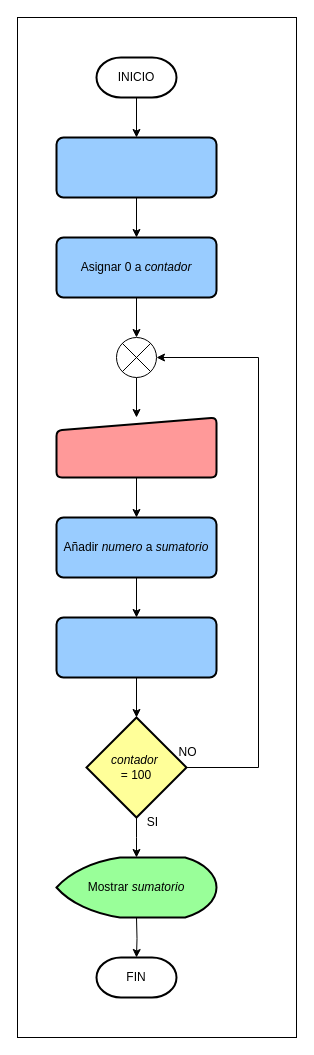
Image size: 314x1055. Some labels were removed from this diagram. Here are the shapes that lost their labels. From the top down, the centre of each, then its label:
(x=136, y=167): Asignar 0 a sumatorio
(x=136, y=447): Asignar valor a numero
(x=136, y=647): Añadir 1 a contador
